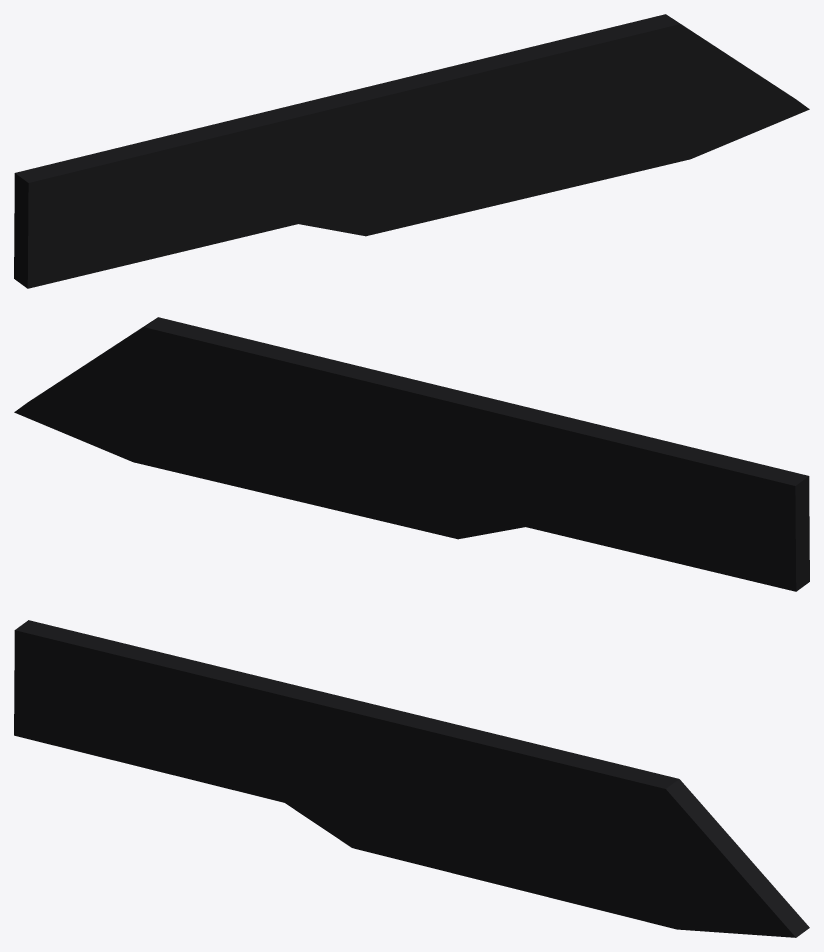
3 renders of one model, top to bottom at view 1: azimuth 30°, elevation 25°; view 2: azimuth 150°, elevation 25°; view 3: azimuth 330°, elevation 25°, orthographic.
Visible parts, largest first — view 1: 平面.049; view 2: 平面.049; view 3: 平面.049.
Boxes of the visible parts, x1=… form: 平面.049: x1=14, y1=14, x2=809, y2=288; 平面.049: x1=14, y1=317, x2=809, y2=591; 平面.049: x1=14, y1=620, x2=809, y2=937.
Bounding box in the file's own units: 129 × 21.65 × 3.92.
